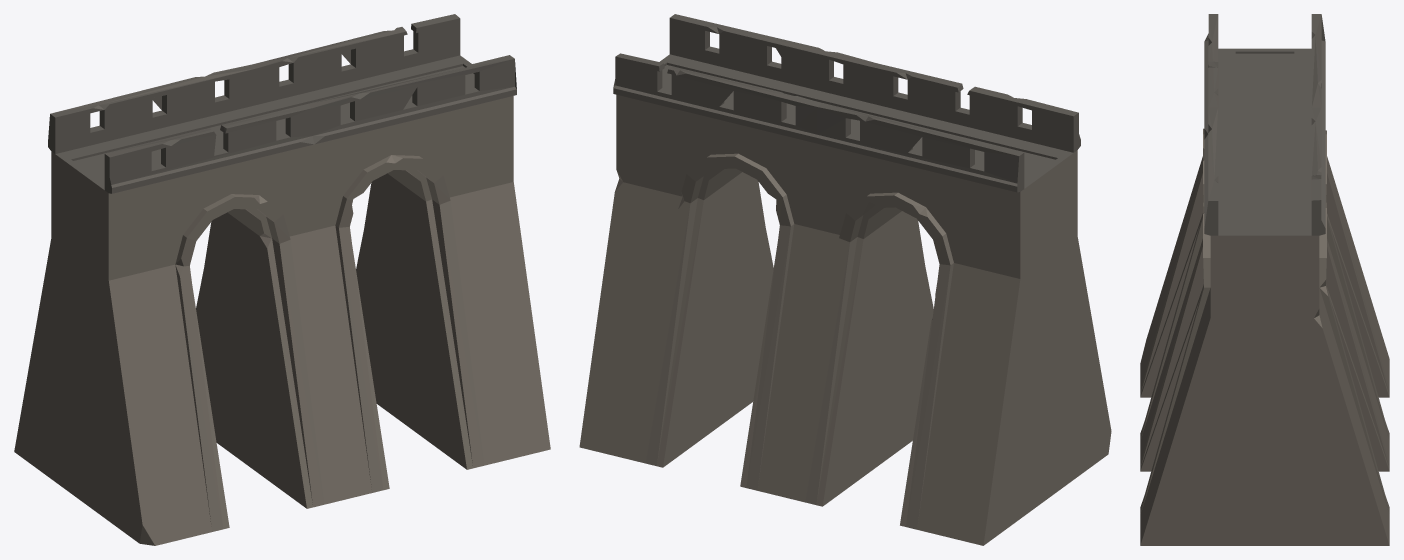
The model's file is SM_Bld_Fort_Wall_02.glb.
The picture shows the model from 3 angles, left to right: view 1: azimuth 30°, elevation 25°; view 2: azimuth 150°, elevation 25°; view 3: azimuth 270°, elevation 25°; orthographic projection. The views are drawn at different scales.
Visible parts, largest first — view 1: SM_Bld_Fort_Wall_02_part00; view 2: SM_Bld_Fort_Wall_02_part00; view 3: SM_Bld_Fort_Wall_02_part00.
Part boxes in pixels (x1,y1,x2,y2): SM_Bld_Fort_Wall_02_part00: (14,14,550,545); SM_Bld_Fort_Wall_02_part00: (579,14,1111,545); SM_Bld_Fort_Wall_02_part00: (1140,14,1389,545).
Size of the model in its own units: 14.31 by 12.37 by 8.06.
1 material, 1 textured.
